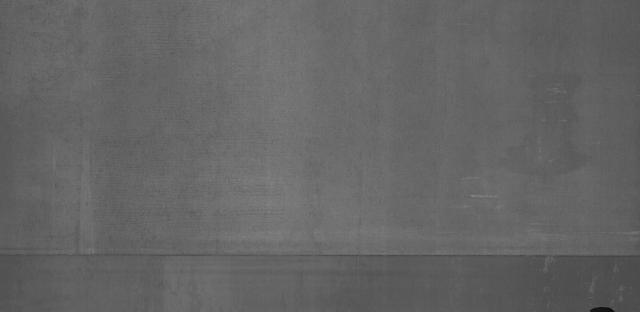punching_hole: (588, 302, 617, 312)
welding_line: (8, 237, 640, 273)
